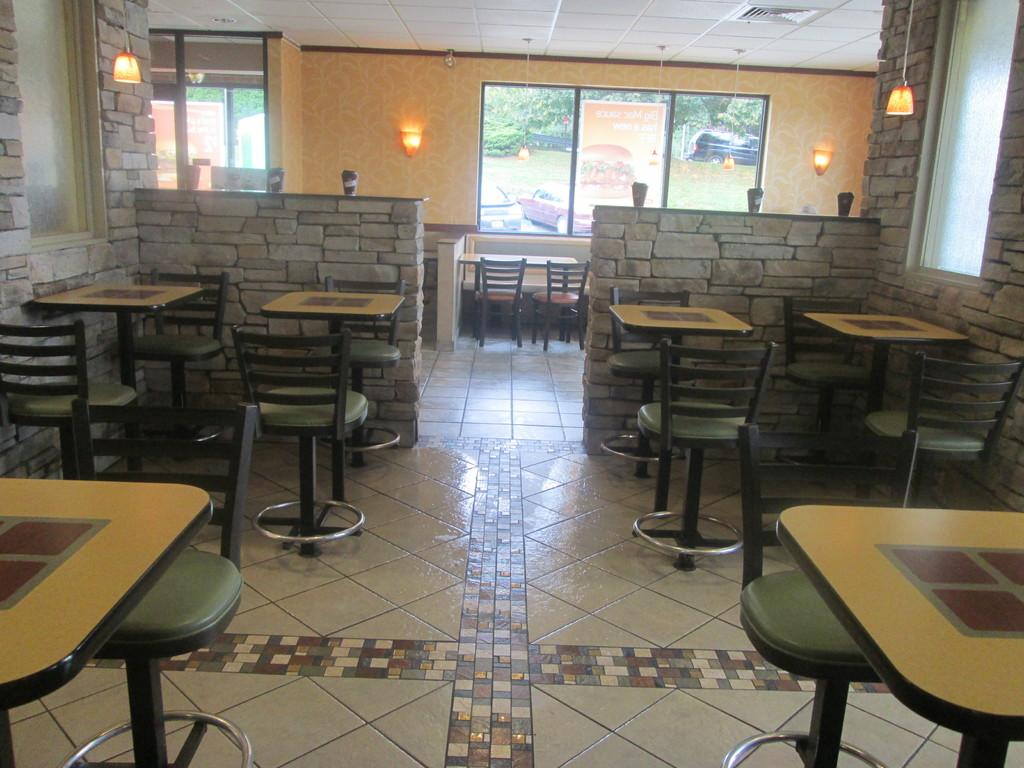Chair: (59, 403, 256, 767), (726, 420, 918, 767), (612, 278, 785, 576), (223, 326, 370, 558), (862, 352, 1023, 506), (0, 324, 140, 477), (124, 264, 226, 452), (599, 282, 689, 479), (316, 273, 408, 465), (769, 296, 866, 476), (529, 257, 592, 351), (477, 252, 525, 346)
